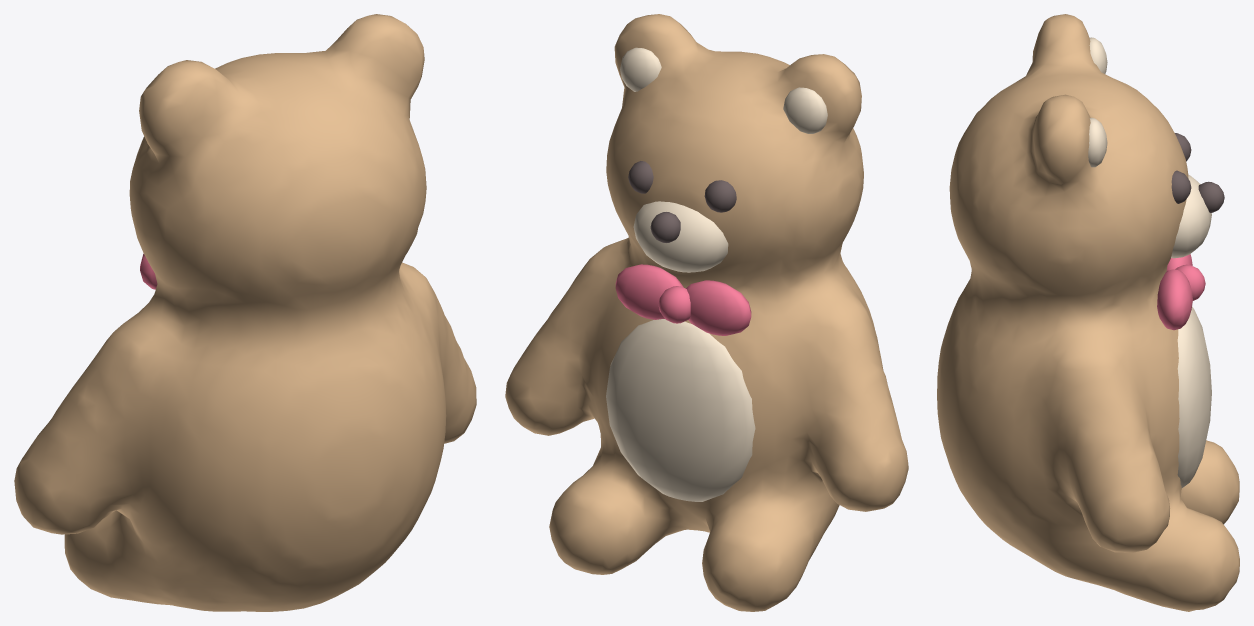
The model's file is MessyMemoryTeddy.glb.
The picture shows the model from 3 angles, left to right: view 1: azimuth 30°, elevation 25°; view 2: azimuth 150°, elevation 25°; view 3: azimuth 270°, elevation 25°; orthographic projection. The views are drawn at different scales.
Visible parts, largest first — view 1: Fur; view 2: Fur, Snout, Bow, Face; view 3: Fur, Snout, Bow, Face.
Boxes of the visible parts, box(x1,y1,x2,y2) form: Fur: box(14, 14, 476, 611); Fur: box(505, 14, 908, 611); Snout: box(606, 47, 827, 501); Bow: box(615, 264, 751, 335); Face: box(628, 161, 736, 242); Fur: box(937, 14, 1239, 611); Snout: box(1088, 37, 1211, 488); Bow: box(1157, 254, 1205, 330); Face: box(1171, 133, 1224, 212).
Bounding box in the file's own units: 1.42 × 1.78 × 0.9563.
